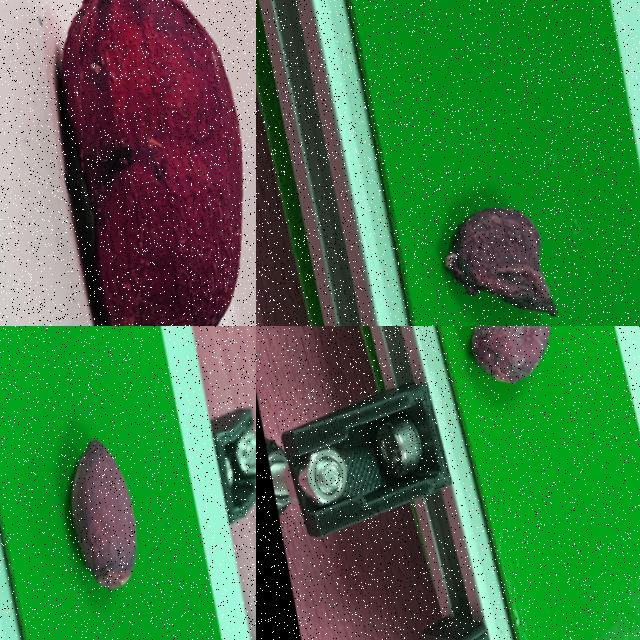Fine_cocoabeans: (0, 0, 255, 325), (3, 326, 193, 639), (381, 326, 638, 529)
Flat_cocoabeans: (404, 128, 590, 325)
